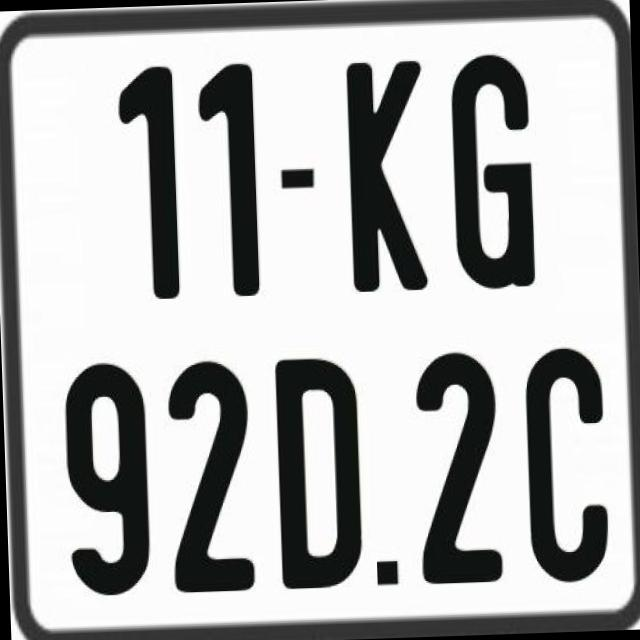1: (114, 64, 182, 305), (193, 62, 260, 304)
2: (167, 354, 256, 590), (412, 346, 502, 579)
9: (63, 362, 151, 606)
C: (520, 342, 606, 579)
D: (272, 352, 367, 590)
G: (446, 49, 532, 294)
K: (343, 56, 427, 298)
